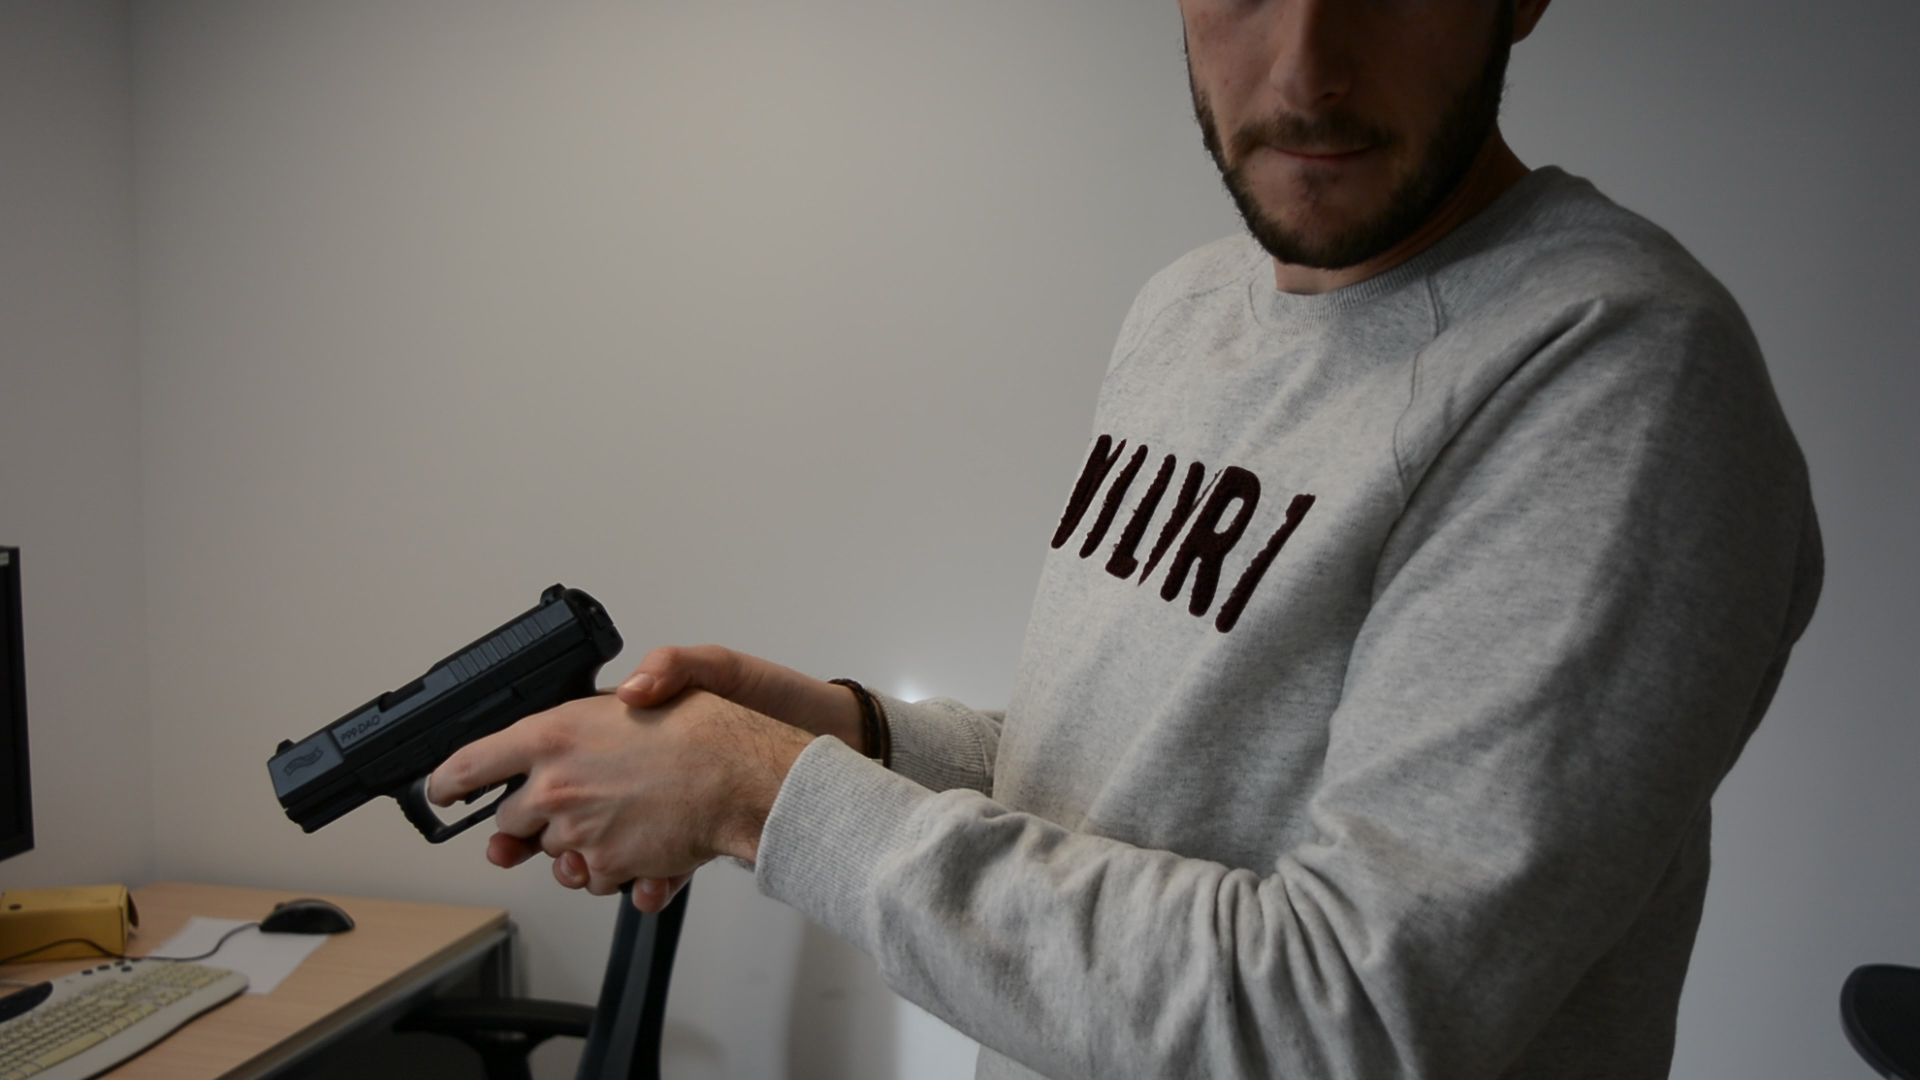pistol: (265, 582, 645, 899)
